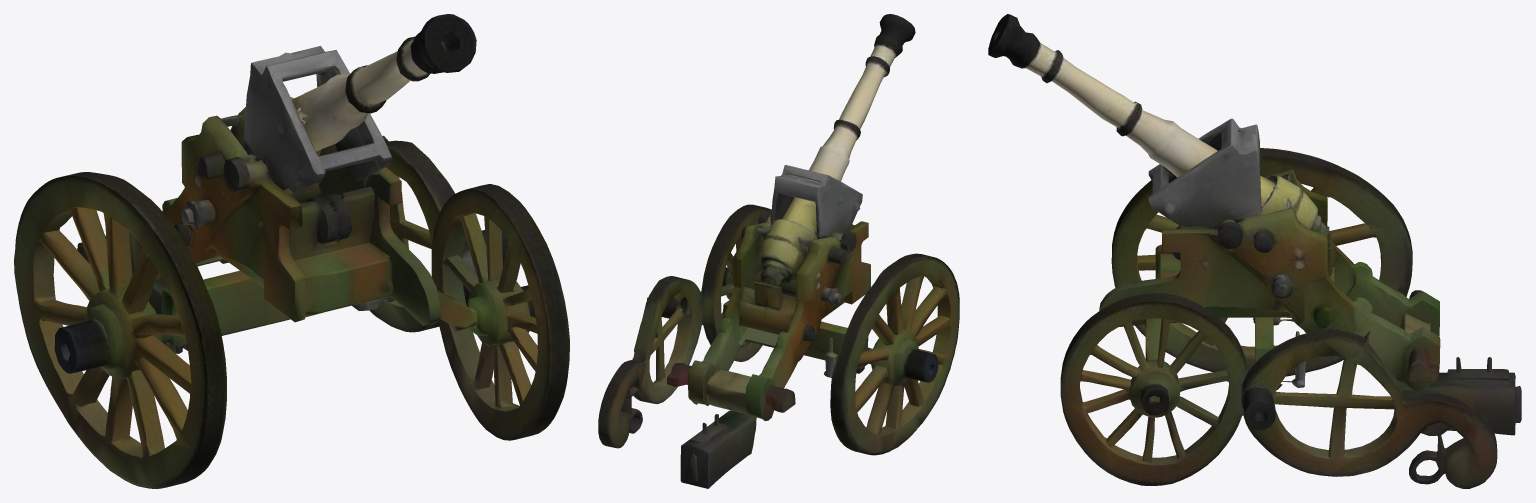
The model's file is artillery.glb.
3 renders of one model, left to right at view 1: azimuth 30°, elevation 25°; view 2: azimuth 150°, elevation 25°; view 3: azimuth 270°, elevation 25°, orthographic. The views are drawn at different scales.
Parts seen in each view (by area): view 1: RETOPO; view 2: RETOPO; view 3: RETOPO.
Part boxes in pixels (x1=…): RETOPO: x1=14, y1=14, x2=569, y2=488; RETOPO: x1=598, y1=14, x2=959, y2=488; RETOPO: x1=988, y1=14, x2=1521, y2=488.
Bounding box in the file's own units: 0.7464 × 0.8709 × 1.
Materials: 1 (1 with a texture image).
